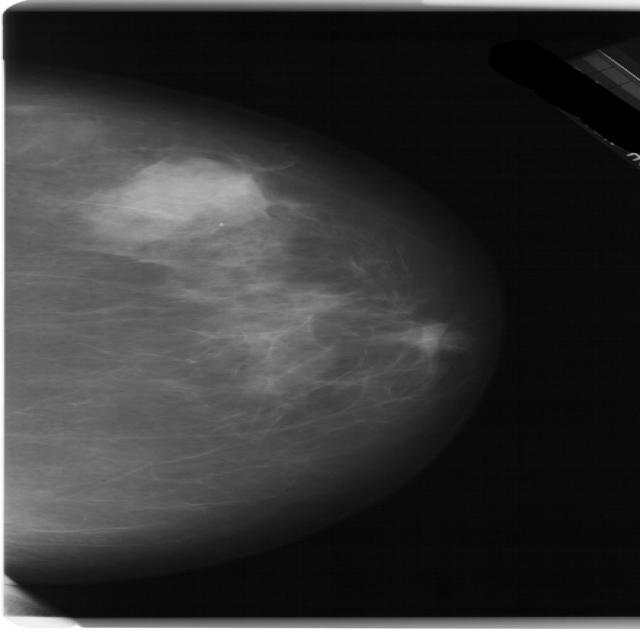tumour: (121, 159, 266, 222)
